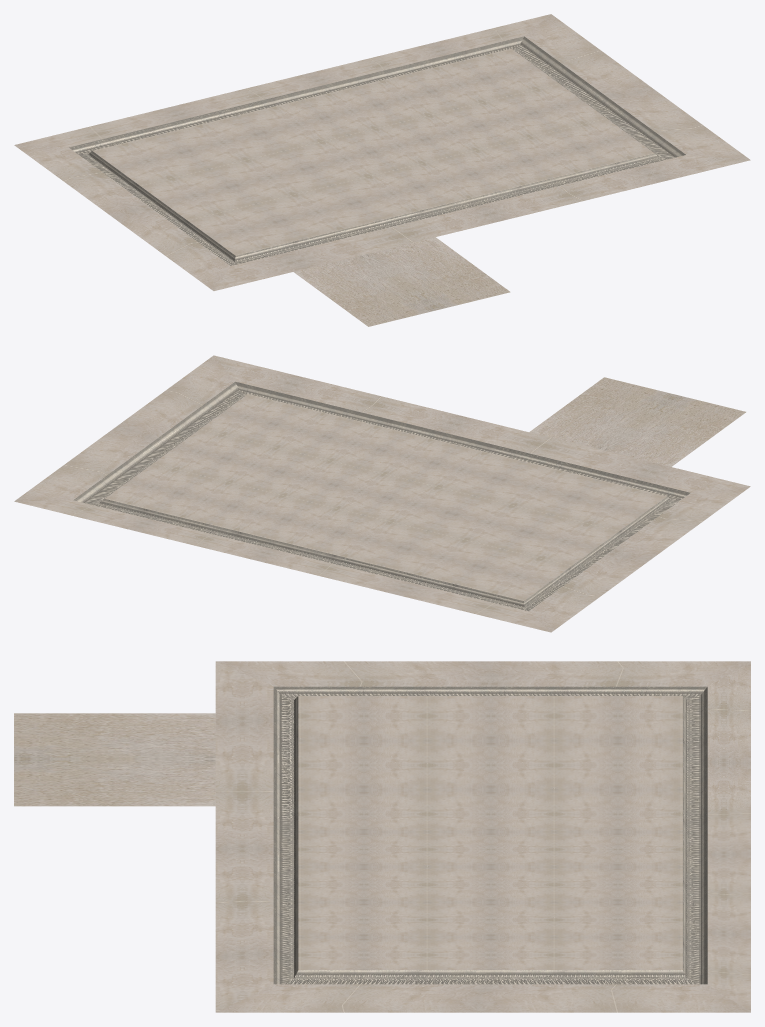
Rendered from Privy_Ceiling_Smaller.fbx.
3 renders of one model, top to bottom at view 1: azimuth 30°, elevation 25°; view 2: azimuth 150°, elevation 25°; view 3: azimuth 270°, elevation 25°, orthographic. The views are drawn at different scales.
Visible parts, largest first — view 1: Bathroomfloor1.001; view 2: Bathroomfloor1.001; view 3: Bathroomfloor1.001.
Boxes of the visible parts, x1,y1,x2,y2 form: Bathroomfloor1.001: [14, 14, 750, 326]; Bathroomfloor1.001: [14, 355, 750, 632]; Bathroomfloor1.001: [14, 661, 750, 1012].
Bounding box in the file's own units: 734 × 5.64 × 651.
